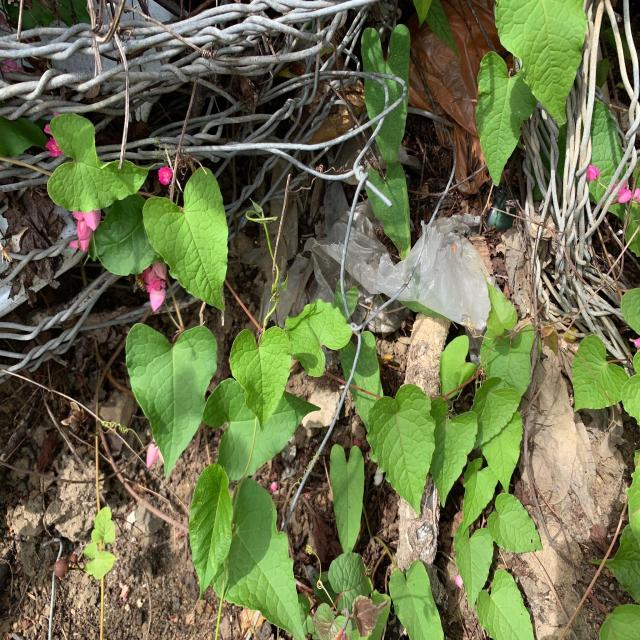litter: (278, 197, 499, 332), (243, 199, 297, 323), (484, 191, 516, 232)
